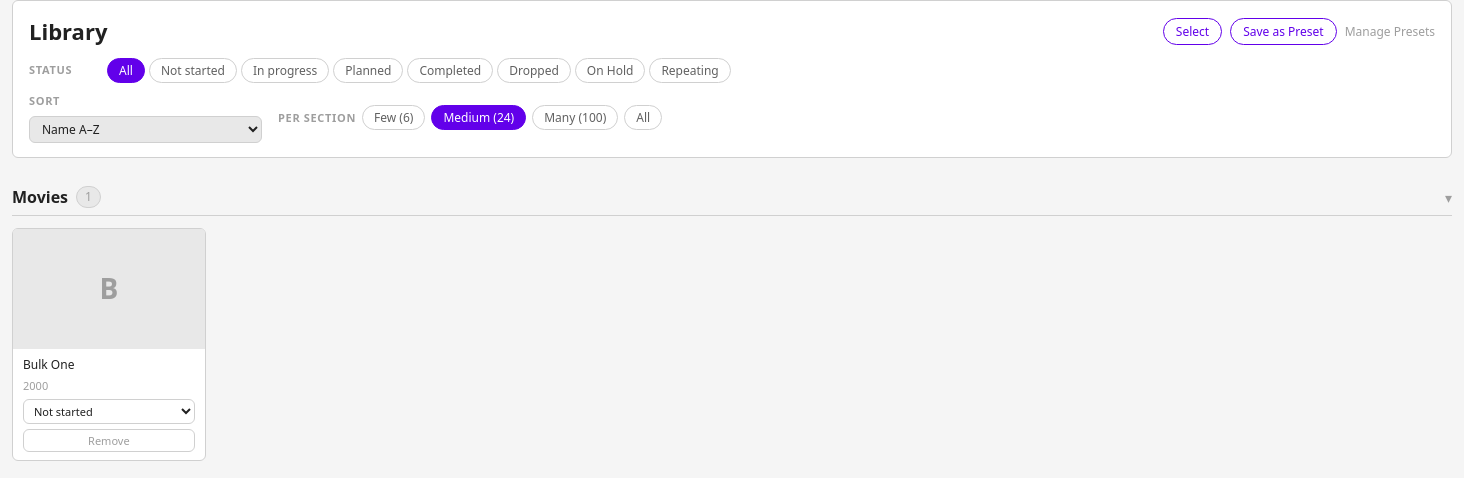
Test: LibraryPage › shows an ordinary user no bulk Delete once an administrator has reserved deletion
This screenshot has width=1464, height=478.
Expected: the text "Bulk One" is shown, x1=23 y1=356 x2=74 y2=373
What coordinates should you click on to do the following:
click the button "Select"
I would click on:
 (1192, 32)
Its box is x1=1163 y1=18 x2=1222 y2=45.
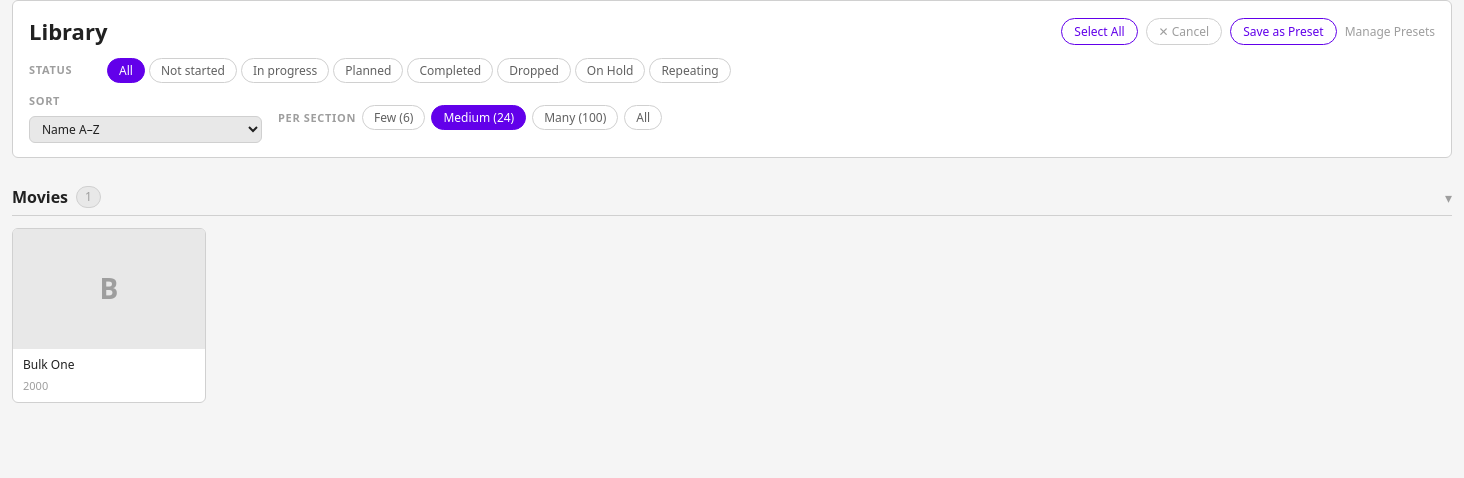
Result: the button "Select All" is shown at x1=1061 y1=18 x2=1138 y2=45
